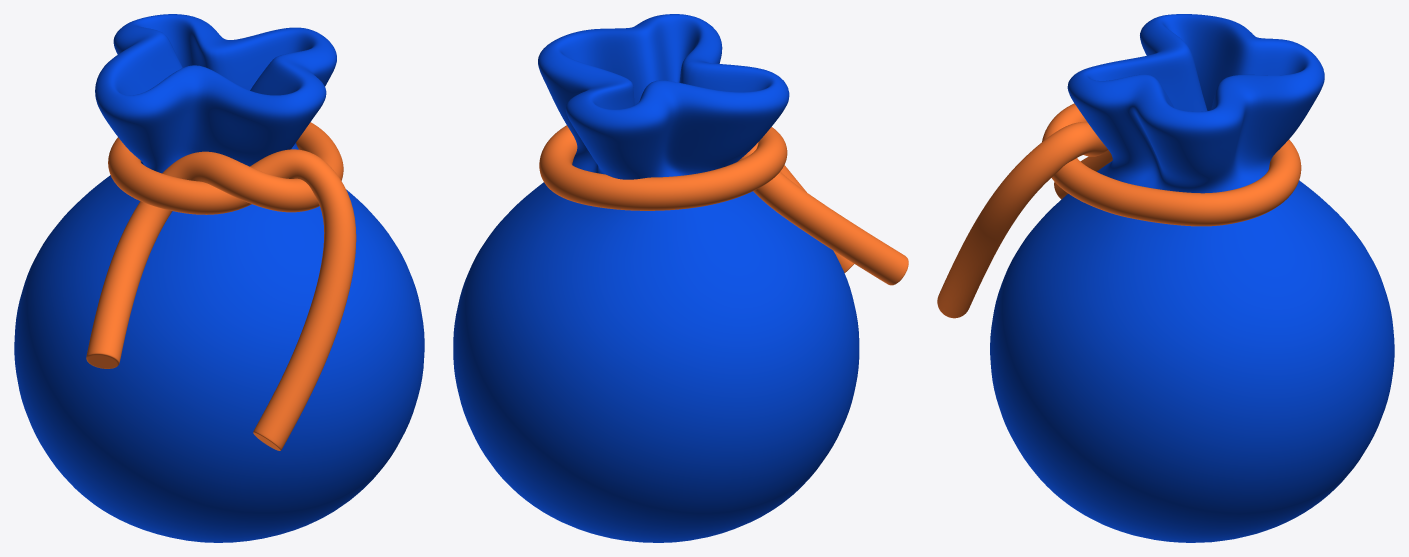
The model's file is money-bag.glb.
3 renders of one model, left to right at view 1: azimuth 30°, elevation 25°; view 2: azimuth 150°, elevation 25°; view 3: azimuth 270°, elevation 25°, orthographic.
Parts seen in each view (by area): view 1: Cube.023; view 2: Cube.023; view 3: Cube.023.
Part boxes in pixels (x1,y1,x2,y2): Cube.023: (14,14,424,542); Cube.023: (453,14,908,542); Cube.023: (937,14,1394,542).
Bounding box in the file's own units: 1.56 × 1.91 × 1.69.
